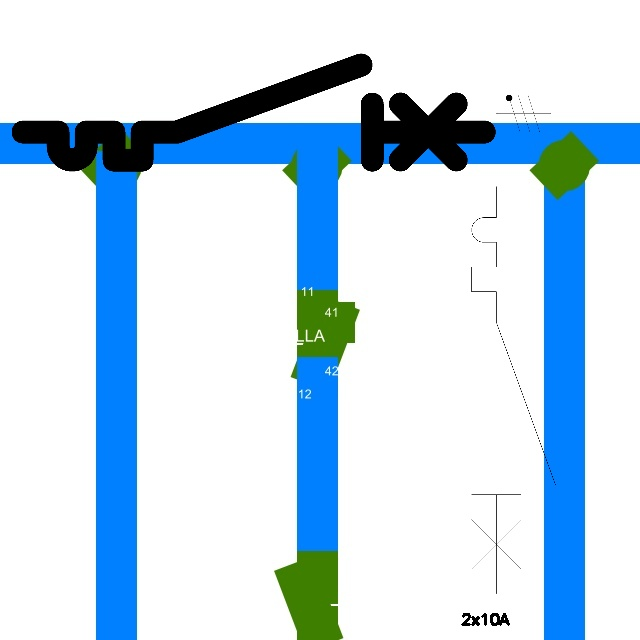interruptor_termomagnetico: (11, 53, 496, 172), (461, 176, 565, 604)
